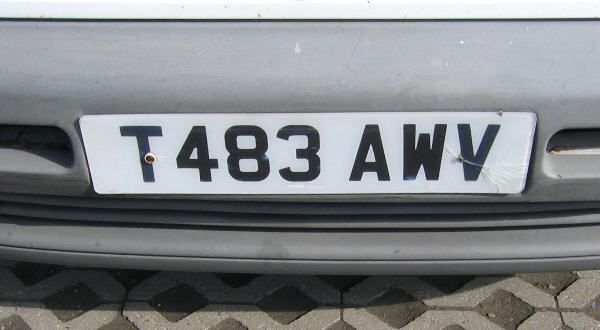license_plate: (75, 111, 537, 197)
